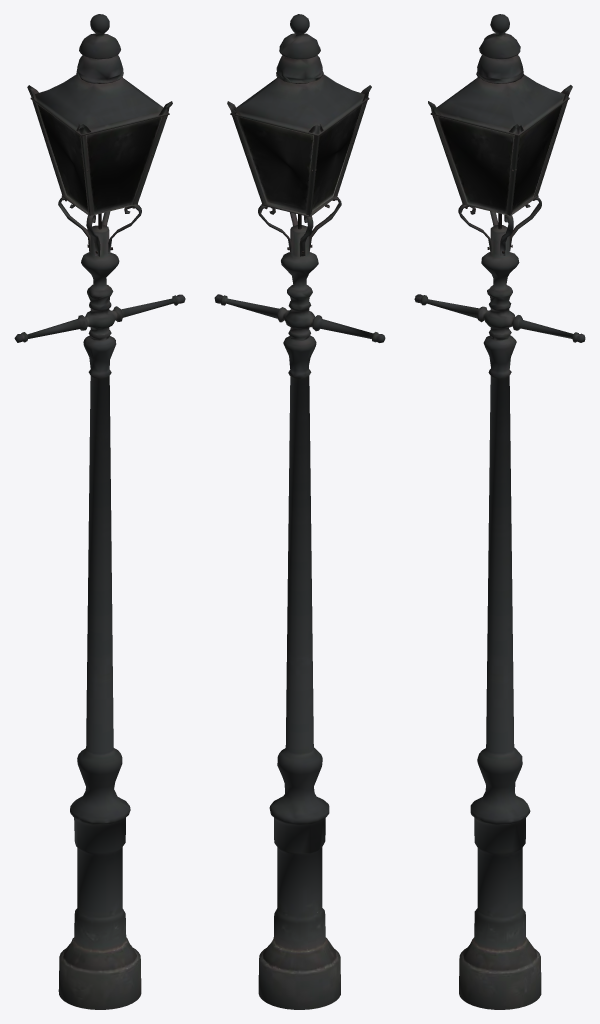
File: street-lamp-01.lod1.glb
3 views of the same model, side by side, from view 1: azimuth 30°, elevation 25°; view 2: azimuth 150°, elevation 25°; view 3: azimuth 330°, elevation 25° (orthographic).
Visible parts, largest first — view 1: street_lamp_01; view 2: street_lamp_01; view 3: street_lamp_01.
Boxes of the visible parts, bbox=[...] form: street_lamp_01: bbox=[14, 14, 185, 1009]; street_lamp_01: bbox=[214, 14, 385, 1009]; street_lamp_01: bbox=[414, 14, 585, 1009].
Size of the model in its own units: 0.7039 by 3.87 by 0.386.
Materials: 2 (2 with a texture image).
